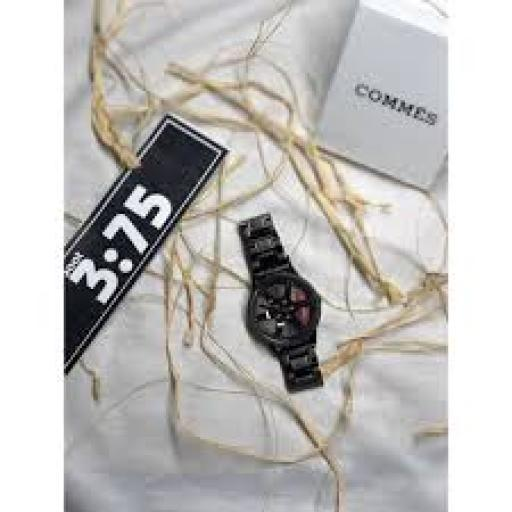KolSaati: (206, 196, 370, 422)
